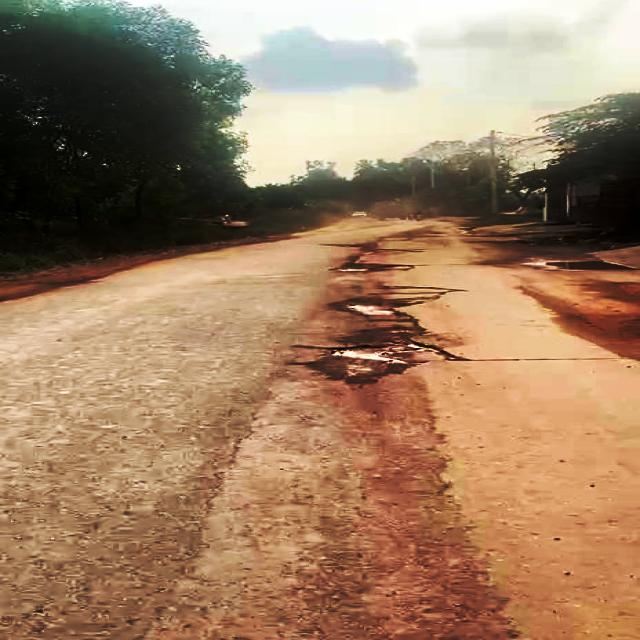pothole: (327, 338, 465, 368), (332, 290, 417, 323), (329, 260, 392, 274)
